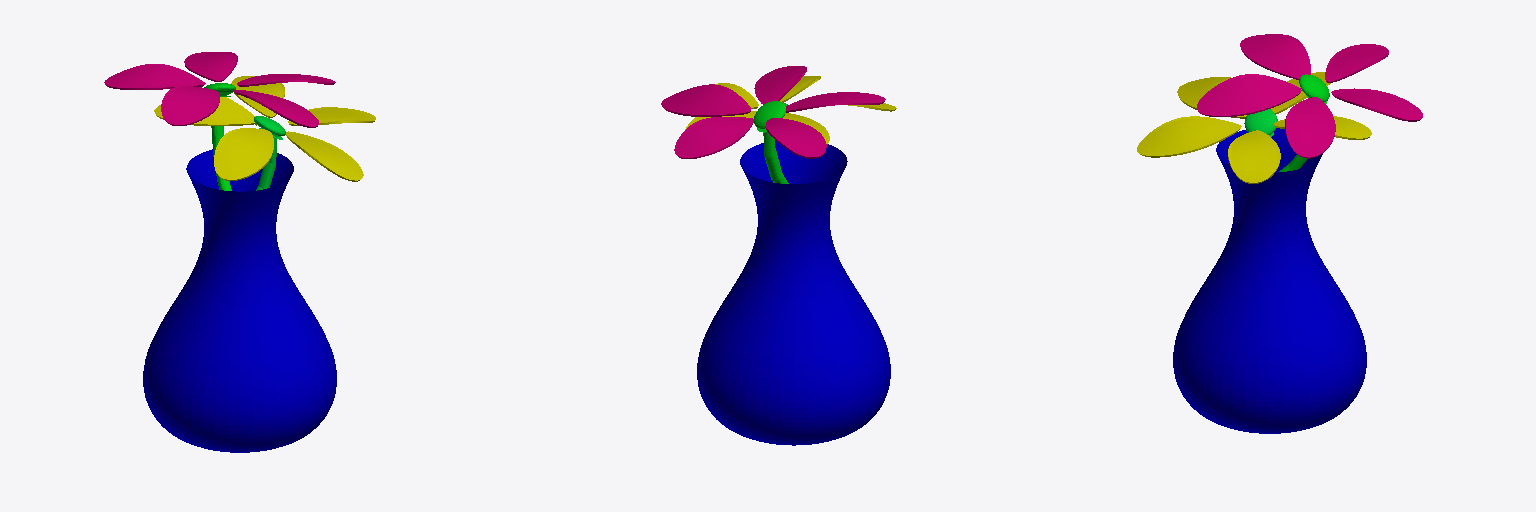
Rendered from vase_withoutuv.obj.
3 views of the same model, side by side, from view 1: azimuth 30°, elevation 25°; view 2: azimuth 150°, elevation 25°; view 3: azimuth 270°, elevation 25° (orthographic).
Visible parts, largest first — view 1: NurbsPath_NurbsPath.002, Circle.001, Circle_Circle.002, Cube.002, Cube.001; view 2: NurbsPath_NurbsPath.002, Circle_Circle.002, Circle.001, Cube.001; view 3: NurbsPath_NurbsPath.002, Circle_Circle.002, Circle.001, Cube.001, Cube.002.
Boxes of the visible parts, box(x1,y1,x2,y2) form: NurbsPath_NurbsPath.002: box(143, 149, 336, 452); Circle.001: box(154, 76, 375, 181); Circle_Circle.002: box(104, 52, 335, 127); Cube.002: box(254, 116, 285, 190); Cube.001: box(204, 83, 235, 190); NurbsPath_NurbsPath.002: box(697, 140, 890, 445); Circle_Circle.002: box(661, 66, 885, 158); Circle.001: box(685, 76, 896, 144); Cube.001: box(754, 101, 788, 183); NurbsPath_NurbsPath.002: box(1173, 128, 1366, 433); Circle_Circle.002: box(1197, 34, 1422, 158); Circle.001: box(1137, 72, 1371, 183); Cube.001: box(1279, 74, 1329, 171); Cube.002: box(1244, 109, 1277, 136).
Bounding box in the file's own units: 2.69 × 4.36 × 3.17.